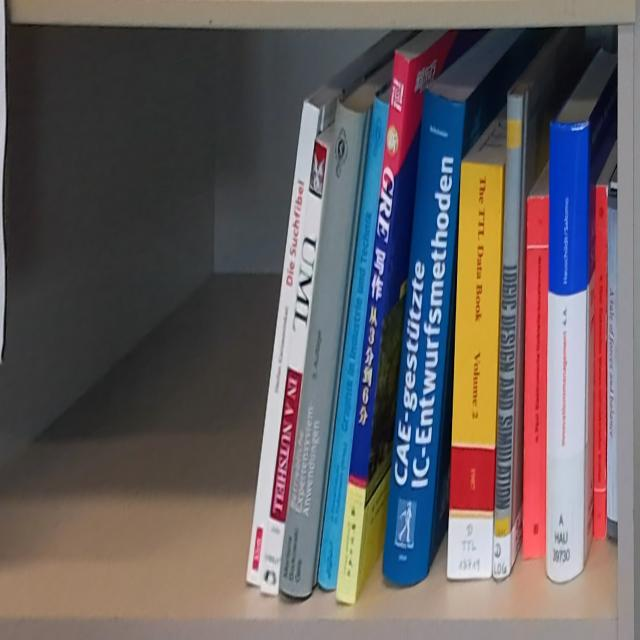Book Spine: (280, 98, 366, 600), (333, 53, 410, 604), (382, 86, 466, 591), (246, 99, 320, 584), (319, 95, 388, 592), (259, 142, 328, 596), (446, 163, 502, 582), (546, 119, 588, 587), (492, 93, 526, 584), (521, 197, 549, 560), (593, 186, 608, 540), (606, 193, 618, 541)
